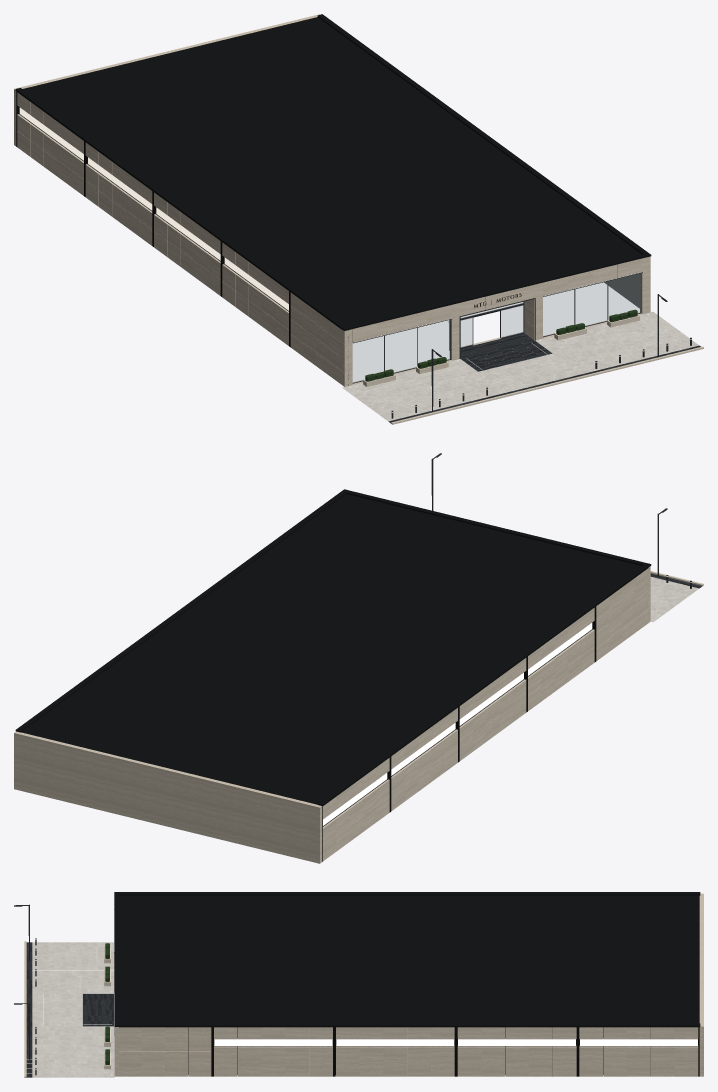
File: room_facade.glb
3 views of the same model, one above another, from view 1: azimuth 30°, elevation 25°; view 2: azimuth 150°, elevation 25°; view 3: azimuth 270°, elevation 25° (orthographic). The views are drawn at different scales.
Parts seen in each view (by area): view 1: MTG_Roof, MTG_Walls, MTG_Floor, MTG_Glass_Vit1, MTG_Glass_Vit-1, MTG_SideCoping-1, MTG_SideCoping1, MTG_FacCoping, MTG_Reveals, MTG_FacBack, MTG_Curb, MTG_Glass_Fixed1; view 2: MTG_Roof, MTG_FacBack, MTG_Walls, MTG_SideCoping-1, MTG_SideCoping1, MTG_FacCoping, MTG_Floor, MTG_Reveals; view 3: MTG_Roof, MTG_Walls, MTG_Floor, MTG_SideCoping1, MTG_SideCoping-1, MTG_Reveals, MTG_FacBack, MTG_SideBand1_0, MTG_SideBand1_1, MTG_SideBand1_2, MTG_SideBand1_3, MTG_FacCoping (+1 smaller).
Boxes of the visible parts, x1,y1,x2,y2 form: MTG_Roof: [16, 17, 641, 329]; MTG_Walls: [17, 92, 650, 386]; MTG_Floor: [342, 312, 700, 423]; MTG_Glass_Vit1: [543, 273, 640, 336]; MTG_Glass_Vit-1: [353, 320, 449, 382]; MTG_SideCoping-1: [15, 88, 349, 330]; MTG_SideCoping1: [317, 14, 651, 257]; MTG_FacCoping: [347, 254, 646, 329]; MTG_Reveals: [16, 92, 639, 385]; MTG_FacBack: [14, 14, 319, 146]; MTG_Curb: [391, 346, 703, 424]; MTG_Glass_Fixed1: [501, 305, 523, 337]; MTG_Roof: [21, 494, 647, 806]; MTG_FacBack: [14, 731, 322, 863]; MTG_Walls: [323, 566, 650, 861]; MTG_SideCoping-1: [317, 563, 651, 805]; MTG_SideCoping1: [15, 489, 348, 732]; MTG_FacCoping: [346, 490, 645, 565]; MTG_Floor: [650, 573, 702, 622]; MTG_Reveals: [322, 606, 596, 861]; MTG_Roof: [119, 895, 699, 1027]; MTG_Walls: [114, 1027, 698, 1076]; MTG_Floor: [26, 942, 114, 1077]; MTG_SideCoping1: [114, 1023, 700, 1026]; MTG_SideCoping-1: [114, 892, 700, 895]; MTG_Reveals: [188, 1027, 699, 1076]; MTG_FacBack: [699, 893, 703, 1076]; MTG_SideBand1_0: [214, 1039, 332, 1045]; MTG_SideBand1_1: [336, 1039, 454, 1045]; MTG_SideBand1_2: [458, 1039, 575, 1045]; MTG_SideBand1_3: [580, 1039, 697, 1045]; MTG_FacCoping: [114, 894, 119, 1023].
Bounding box in the file's own units: 34.2 × 6.61 × 73.65.
Materials: 16 (5 with a texture image).
